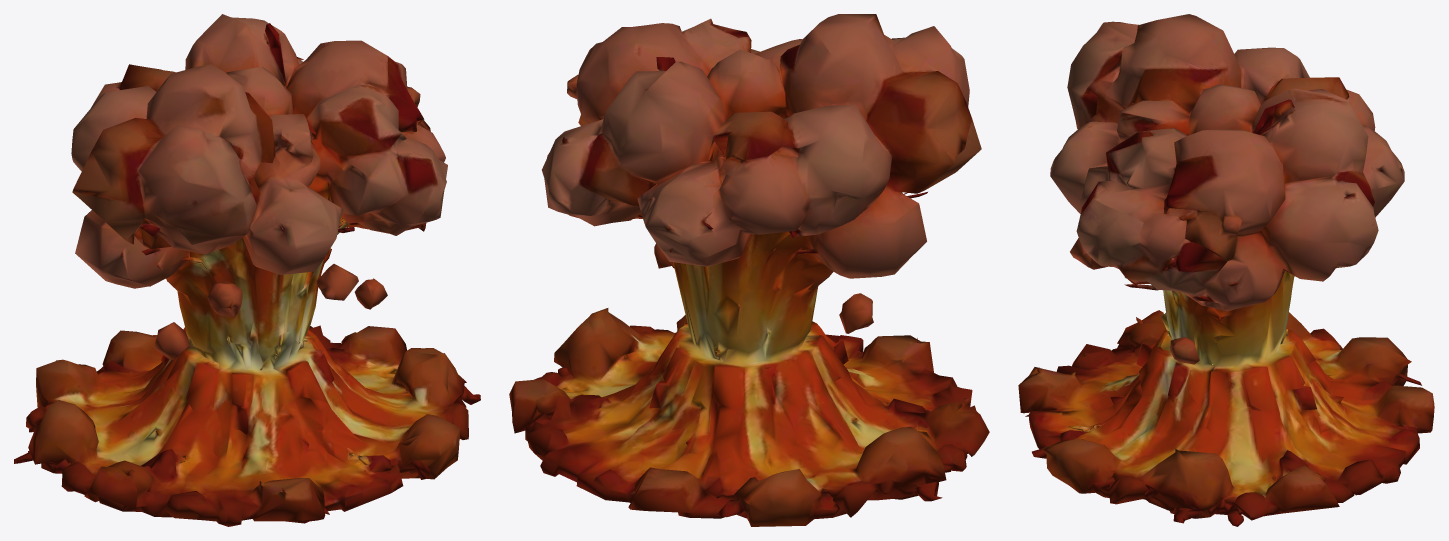
File: magma_v.glb
3 views of the same model, side by side, from view 1: azimuth 30°, elevation 25°; view 2: azimuth 150°, elevation 25°; view 3: azimuth 270°, elevation 25° (orthographic). The views are drawn at different scales.
Visible parts, largest first — view 1: tripo_node_0bc7dae8-caf9-4fb4-b47b-ffc1acabaf37; view 2: tripo_node_0bc7dae8-caf9-4fb4-b47b-ffc1acabaf37; view 3: tripo_node_0bc7dae8-caf9-4fb4-b47b-ffc1acabaf37.
Boxes of the visible parts, x1=… form: tripo_node_0bc7dae8-caf9-4fb4-b47b-ffc1acabaf37: x1=14, y1=14, x2=480, y2=526; tripo_node_0bc7dae8-caf9-4fb4-b47b-ffc1acabaf37: x1=509, y1=14, x2=989, y2=526; tripo_node_0bc7dae8-caf9-4fb4-b47b-ffc1acabaf37: x1=1018, y1=14, x2=1434, y2=526.
Size of the model in its own units: 0.9785 by 0.8788 by 0.8805.
1 material, 1 textured.
